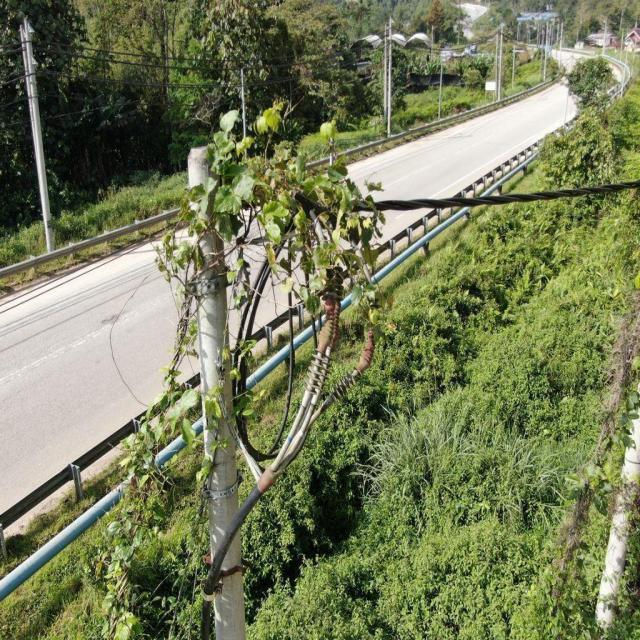critical vegetation: (96, 90, 388, 624)
